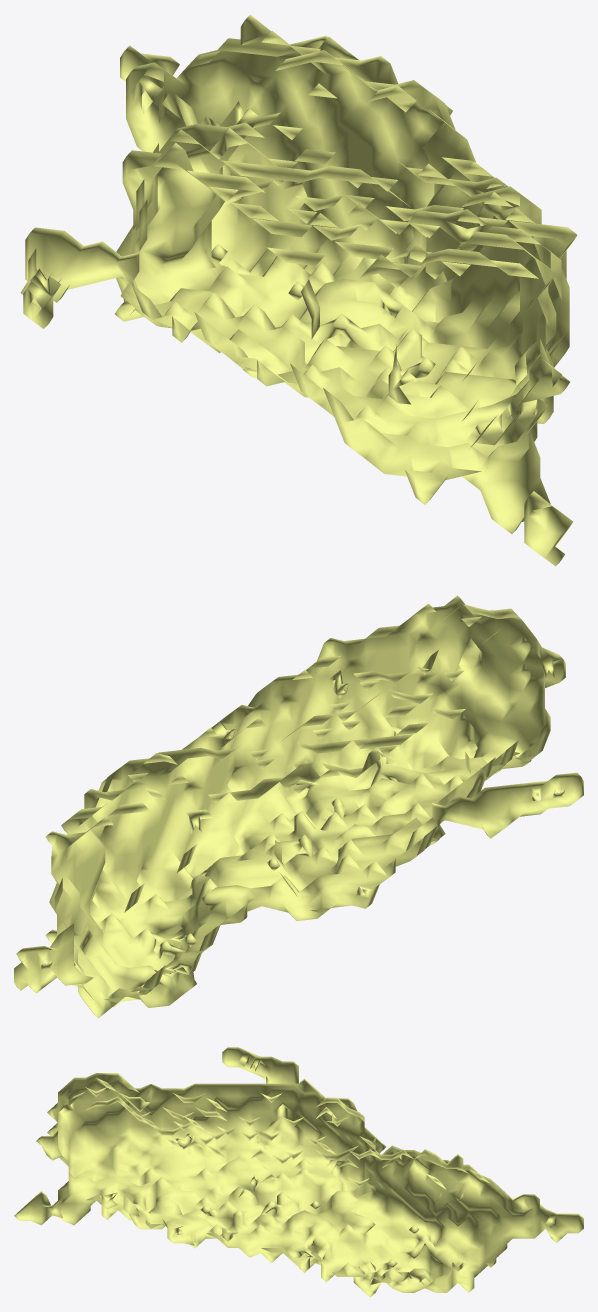
File: osteocyte_47.glb
3 renders of one model, top to bottom at view 1: azimuth 30°, elevation 25°; view 2: azimuth 150°, elevation 25°; view 3: azimuth 270°, elevation 25°, orthographic. The views are drawn at different scales.
Visible parts, largest first — view 1: osteocyte_47; view 2: osteocyte_47; view 3: osteocyte_47.
Boxes of the visible parts, x1,y1,x2,y2 form: osteocyte_47: (20,14,577,566); osteocyte_47: (14,595,583,1018); osteocyte_47: (14,1047,583,1297).
Size of the model in its own units: 14.44 by 8.19 by 25.04.
